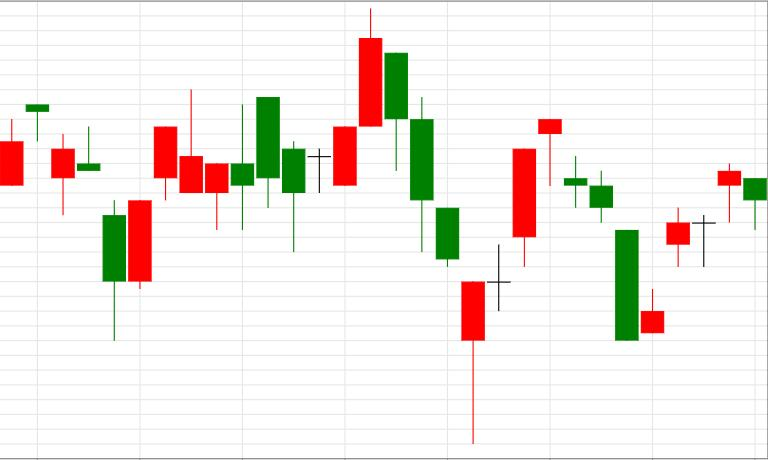hammer_rise: (384, 52, 485, 443)
three_black_crows_fall: (308, 8, 459, 266)
